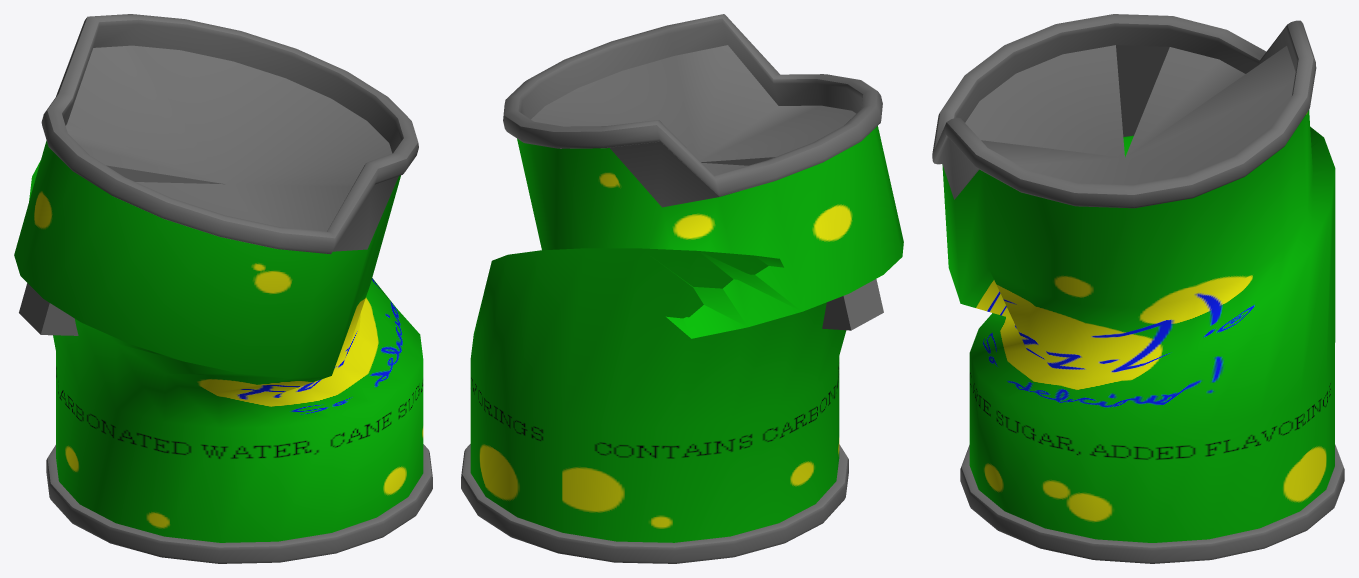
File: asset_can_messy.fbx
The picture shows the model from 3 angles, left to right: view 1: azimuth 30°, elevation 25°; view 2: azimuth 150°, elevation 25°; view 3: azimuth 270°, elevation 25°; orthographic projection.
Visible parts, largest first — view 1: pCylinder3; view 2: pCylinder3; view 3: pCylinder3.
Boxes of the visible parts, x1,y1,x2,y2 form: pCylinder3: [14, 14, 432, 563]; pCylinder3: [461, 14, 903, 563]; pCylinder3: [932, 14, 1344, 563].
Size of the model in its own units: 2.27 by 2.45 by 2.15.
